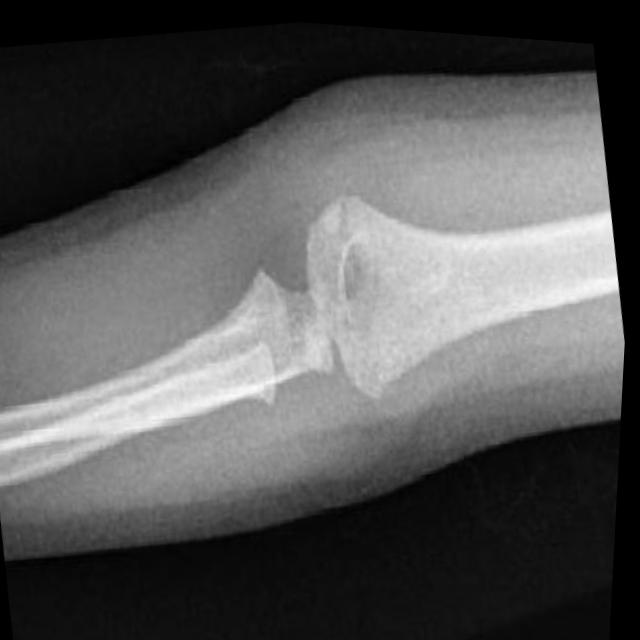fracture: (236, 293, 392, 440)
